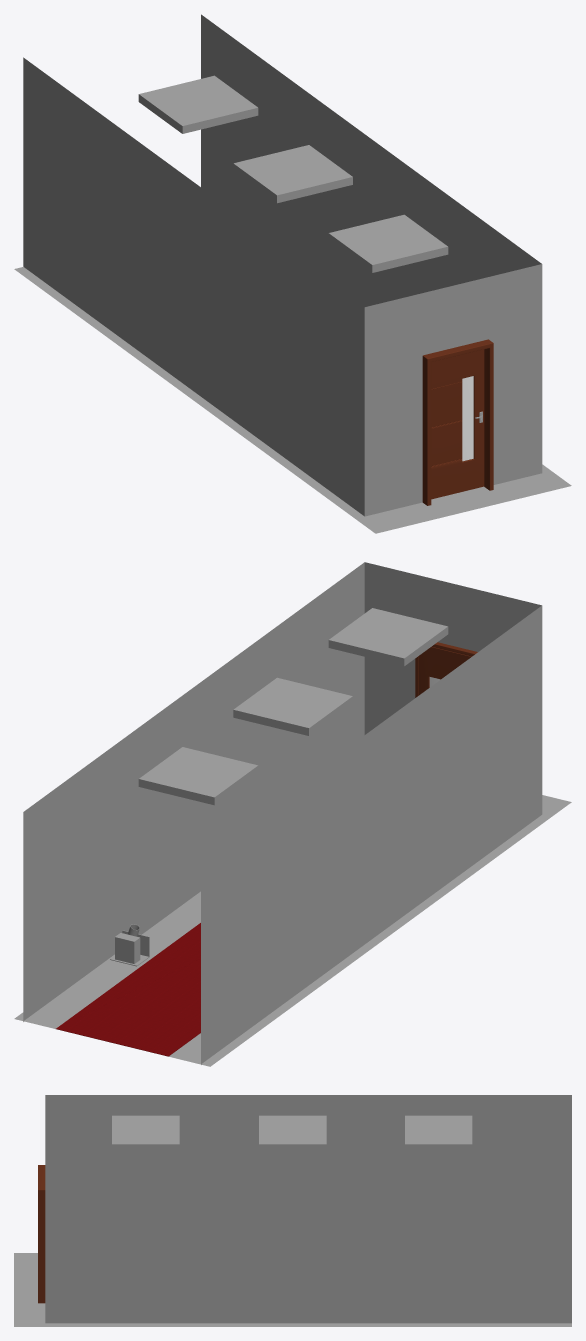
File: EscapeRoom_Hallway.fbx
3 views of the same model, one above another, from view 1: azimuth 30°, elevation 25°; view 2: azimuth 150°, elevation 25°; view 3: azimuth 270°, elevation 25° (orthographic). The views are drawn at different scales.
Parts seen in each view (by area): view 1: Walls, pCube829 (×3), Door, Floor; view 2: Walls, pCube829 (×3), Red_Carpet, Floor, Door, pCube830; view 3: Walls, pCube829 (×3), Floor, Door.
Boxes of the visible parts, x1,y1,x2,y2 form: Walls: (23, 14, 542, 516); pCube829 (×3): (138, 75, 448, 272); Door: (422, 339, 493, 505); Floor: (14, 267, 571, 533); Walls: (23, 562, 542, 1064); pCube829 (×3): (138, 608, 448, 805); Red_Carpet: (56, 923, 200, 1056); Floor: (14, 795, 571, 1066); Door: (415, 642, 477, 697); pCube830: (115, 933, 140, 963); Walls: (45, 1095, 571, 1323); pCube829 (×3): (112, 1115, 472, 1150); Floor: (14, 1253, 571, 1326); Door: (38, 1165, 45, 1303).
Size of the model in its own units: 291 by 300 by 929.
10 materials, 1 textured.
